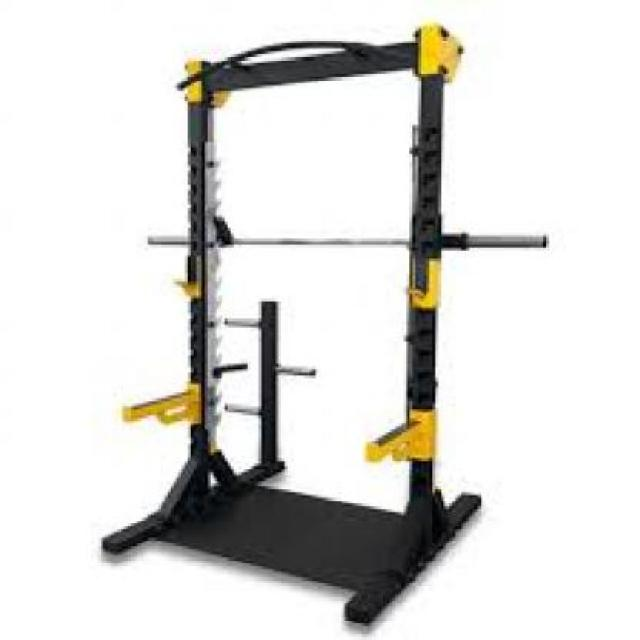smith machine: (100, 23, 549, 629)
